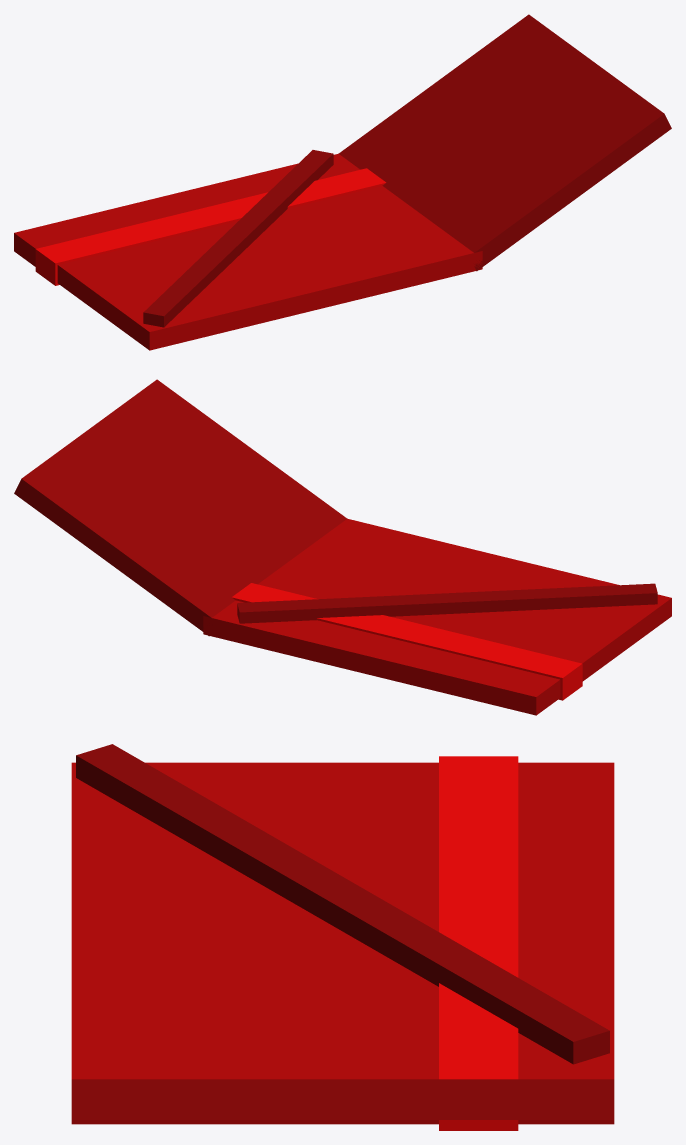
File: debris_plate.glb
3 renders of one model, top to bottom at view 1: azimuth 30°, elevation 25°; view 2: azimuth 150°, elevation 25°; view 3: azimuth 270°, elevation 25°, orthographic. The views are drawn at different scales.
Parts seen in each view (by area): view 1: debris_plate; view 2: debris_plate; view 3: debris_plate.
Boxes of the visible parts, x1,y1,x2,y2 form: debris_plate: (14,14,671,350); debris_plate: (14,379,671,715); debris_plate: (71,744,614,1130).
Bounding box in the file's own units: 5.36 × 1.11 × 2.4.
